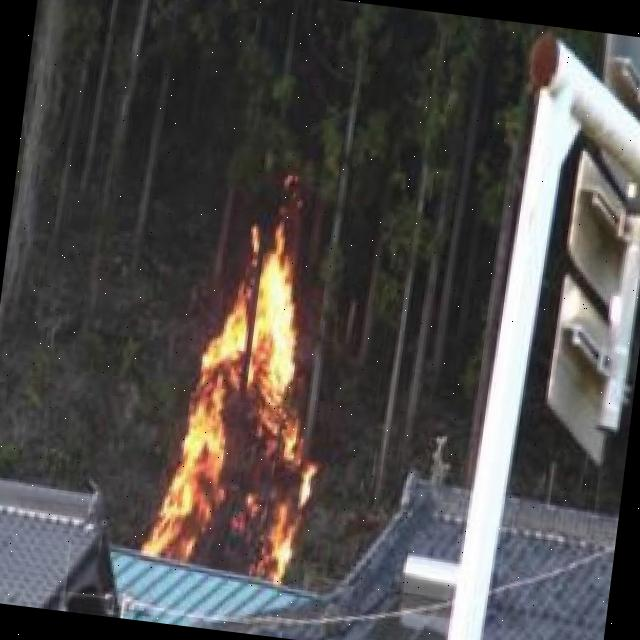fire: (142, 205, 338, 594)
